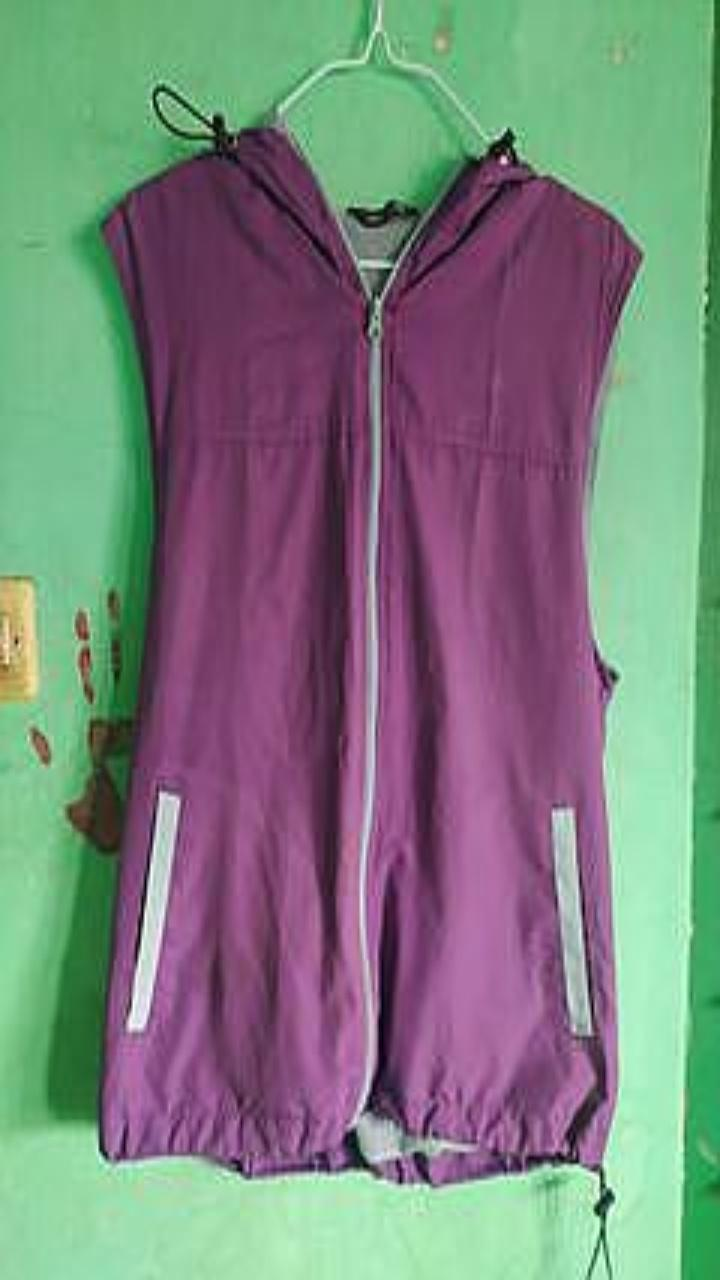Coat: (100, 123, 642, 1184)
